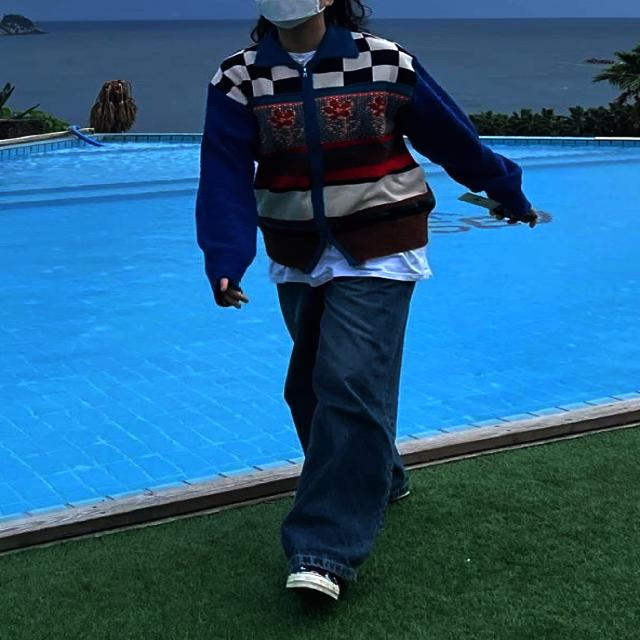cardigan: (196, 28, 534, 286)
denimpants: (276, 270, 416, 586)
